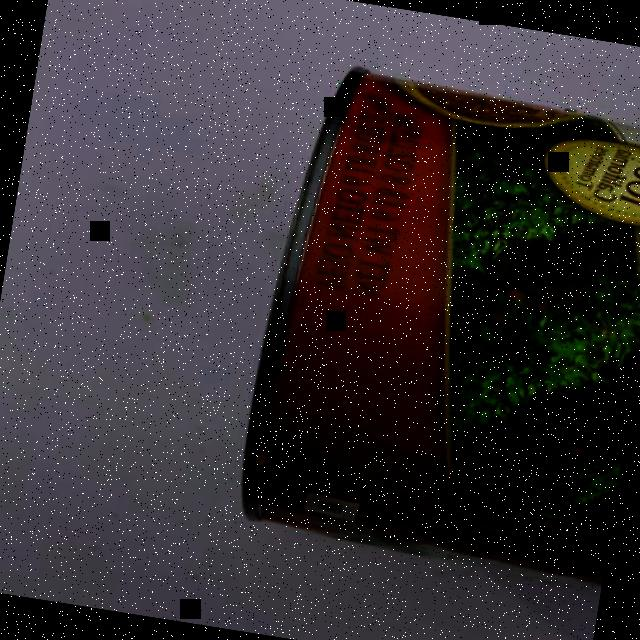can: (217, 51, 640, 599)
